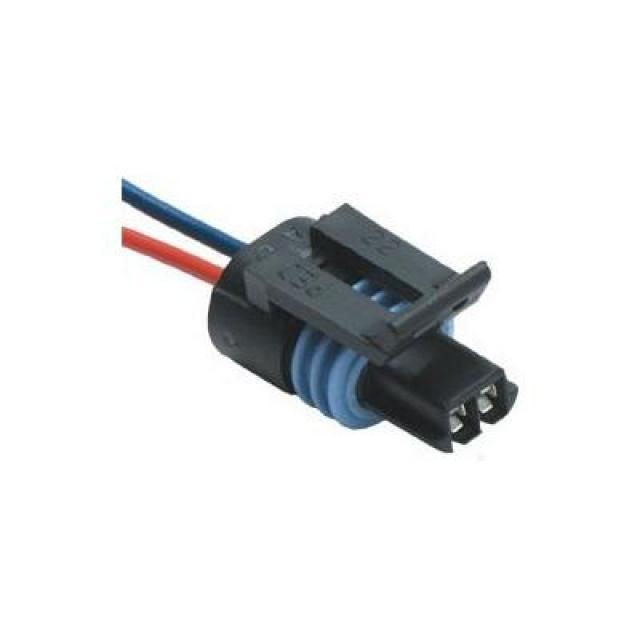connector: (186, 169, 559, 480)
